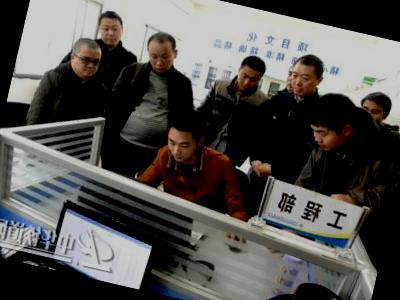no_helmet: (301, 88, 368, 159), (156, 99, 212, 167), (282, 49, 330, 104), (62, 34, 108, 84), (137, 27, 183, 76), (230, 50, 270, 98), (354, 85, 397, 128), (89, 6, 129, 50)
